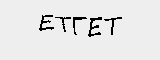Г: (71, 15, 87, 37)
Е: (88, 15, 103, 38), (39, 12, 54, 33)
Т: (104, 13, 123, 37), (56, 14, 69, 34)
